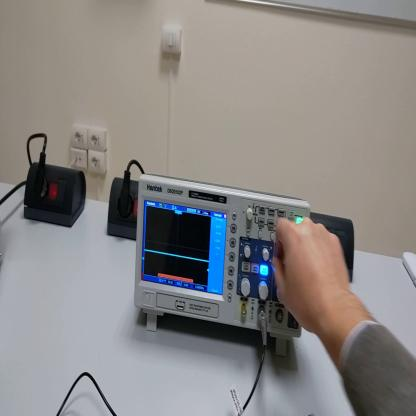hand: (272, 214, 352, 336)
oscilloscope: (135, 175, 312, 359)
socket: (24, 162, 87, 230), (108, 176, 138, 241)
